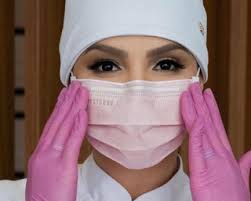with_mask_and_cap: (62, 1, 201, 161)
